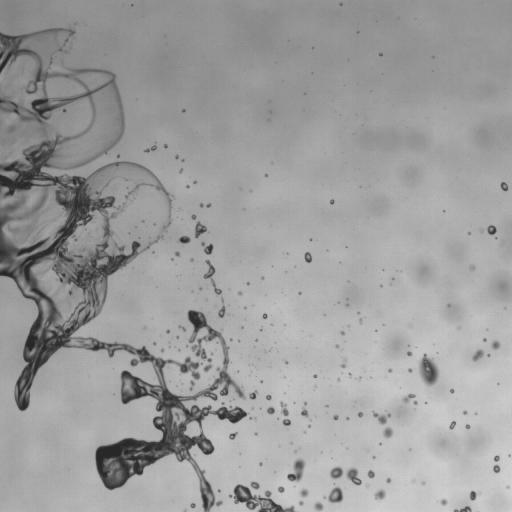droplet: (418, 354, 439, 386), (287, 458, 305, 482), (325, 486, 343, 503), (372, 411, 390, 424), (195, 222, 206, 237), (201, 243, 213, 254), (472, 349, 483, 361), (383, 427, 393, 438), (374, 489, 385, 499), (469, 490, 480, 500), (402, 394, 414, 403), (218, 304, 225, 318), (178, 235, 190, 243), (248, 390, 258, 399), (314, 501, 323, 511), (487, 225, 496, 234), (491, 340, 500, 349), (304, 252, 311, 262), (301, 407, 308, 417), (500, 182, 508, 190), (300, 489, 308, 497), (267, 406, 274, 414), (493, 465, 500, 473), (367, 470, 374, 478), (341, 358, 346, 368), (229, 432, 236, 439), (277, 486, 284, 493), (440, 498, 447, 505), (449, 421, 455, 429), (494, 455, 499, 461), (262, 313, 267, 318), (266, 395, 271, 400), (358, 412, 363, 417), (333, 415, 338, 420), (190, 503, 195, 508), (330, 199, 334, 204), (175, 251, 179, 256), (237, 291, 242, 295), (407, 352, 412, 356), (386, 478, 390, 483), (207, 203, 211, 207), (192, 215, 196, 219), (335, 344, 339, 348), (408, 368, 412, 372), (450, 389, 454, 393), (466, 424, 470, 428), (299, 501, 303, 505), (471, 265, 474, 270), (264, 174, 268, 177), (200, 203, 203, 207), (359, 319, 362, 323), (166, 330, 170, 333), (341, 331, 344, 335), (388, 369, 392, 372), (414, 400, 417, 404), (463, 410, 466, 414), (164, 144, 167, 147), (175, 155, 178, 158), (483, 338, 486, 341), (348, 373, 351, 376), (313, 374, 316, 377), (179, 170, 182, 172), (186, 185, 189, 187), (221, 298, 223, 301), (161, 349, 164, 351), (487, 354, 490, 356), (259, 463, 262, 465), (422, 481, 424, 484), (194, 181, 196, 183), (131, 199, 133, 201), (190, 259, 192, 261), (247, 282, 249, 284), (285, 361, 287, 363), (337, 378, 339, 380), (304, 403, 306, 405), (251, 417, 253, 419), (308, 425, 310, 427)
ligament: (0, 28, 248, 511), (229, 481, 297, 511), (203, 260, 221, 294), (330, 466, 361, 485), (280, 402, 290, 425), (453, 506, 471, 511), (144, 145, 156, 152), (119, 174, 131, 181), (178, 325, 185, 331), (43, 269, 48, 273), (0, 121, 3, 127), (183, 510, 186, 511)
